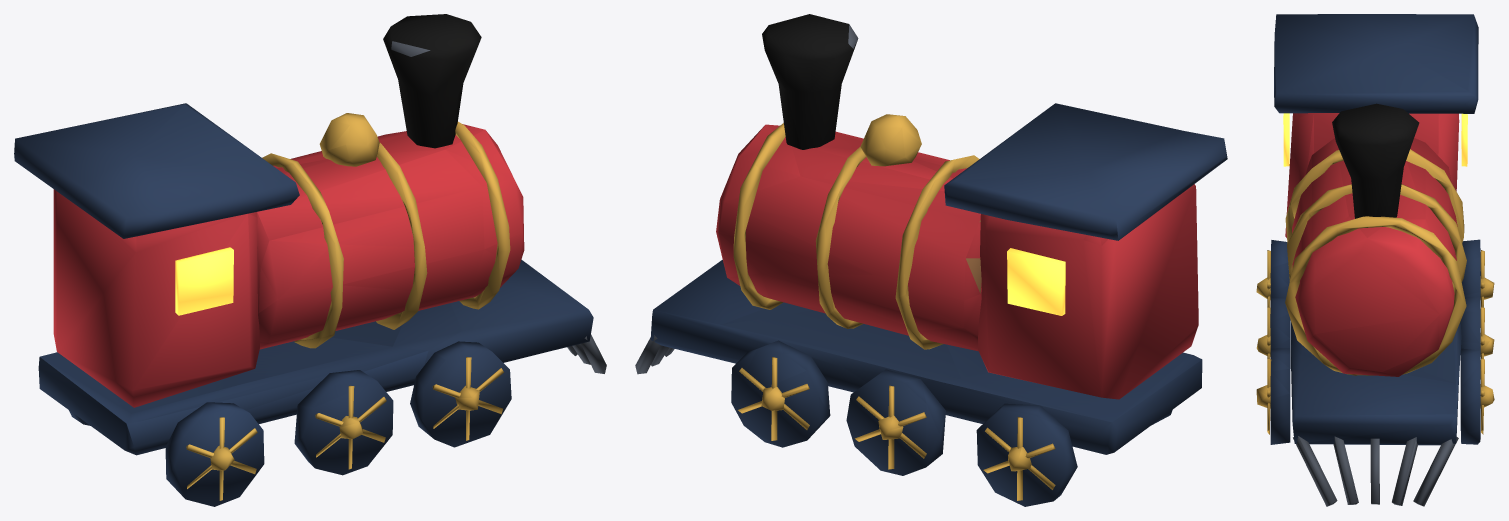
File: frost_toy_train_lod2.glb
3 renders of one model, left to right at view 1: azimuth 30°, elevation 25°; view 2: azimuth 150°, elevation 25°; view 3: azimuth 270°, elevation 25°, orthographic. The views are drawn at different scales.
Visible parts, largest first — view 1: frost_toy_train.001; view 2: frost_toy_train.001; view 3: frost_toy_train.001.
Boxes of the visible parts, x1,y1,x2,y2 form: frost_toy_train.001: (14, 14, 606, 506); frost_toy_train.001: (635, 14, 1227, 506); frost_toy_train.001: (1256, 14, 1494, 506).
Bounding box in the file's own units: 20.57 × 13.93 × 9.11.
